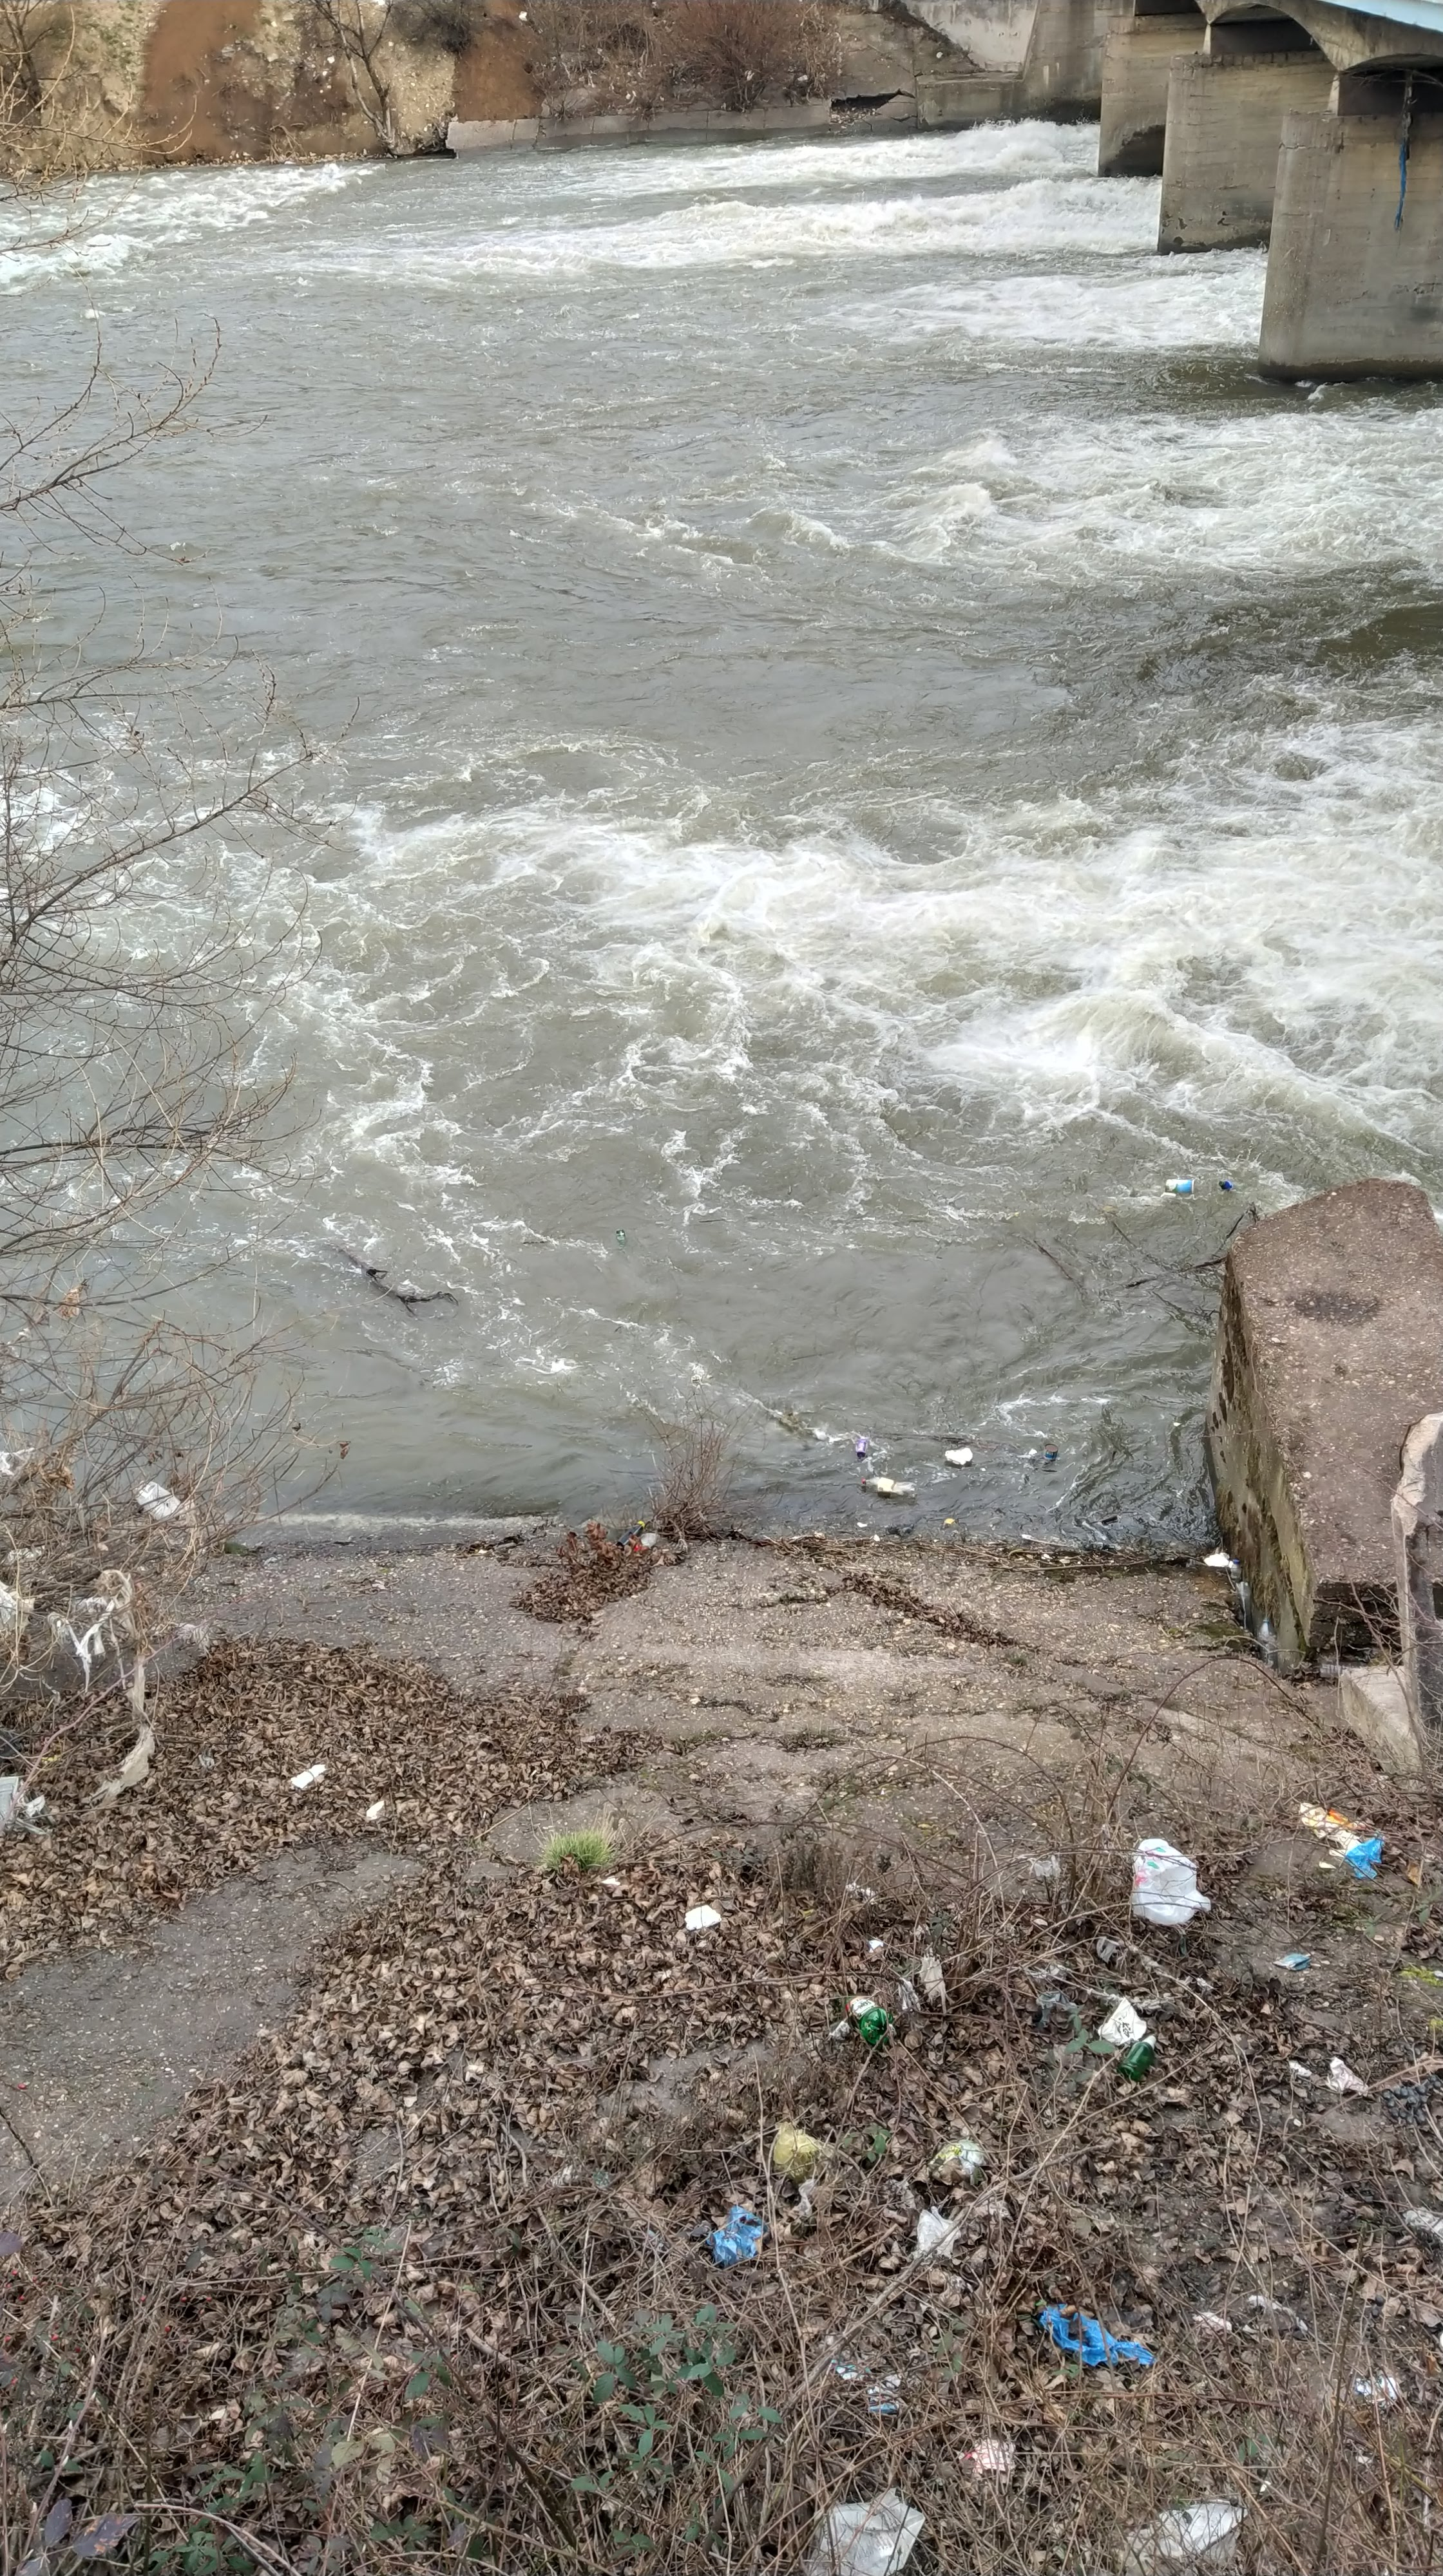Plastic Bottle: (862, 1477, 915, 1497), (857, 1435, 866, 1456), (616, 1228, 625, 1242), (1218, 1180, 1231, 1189)
